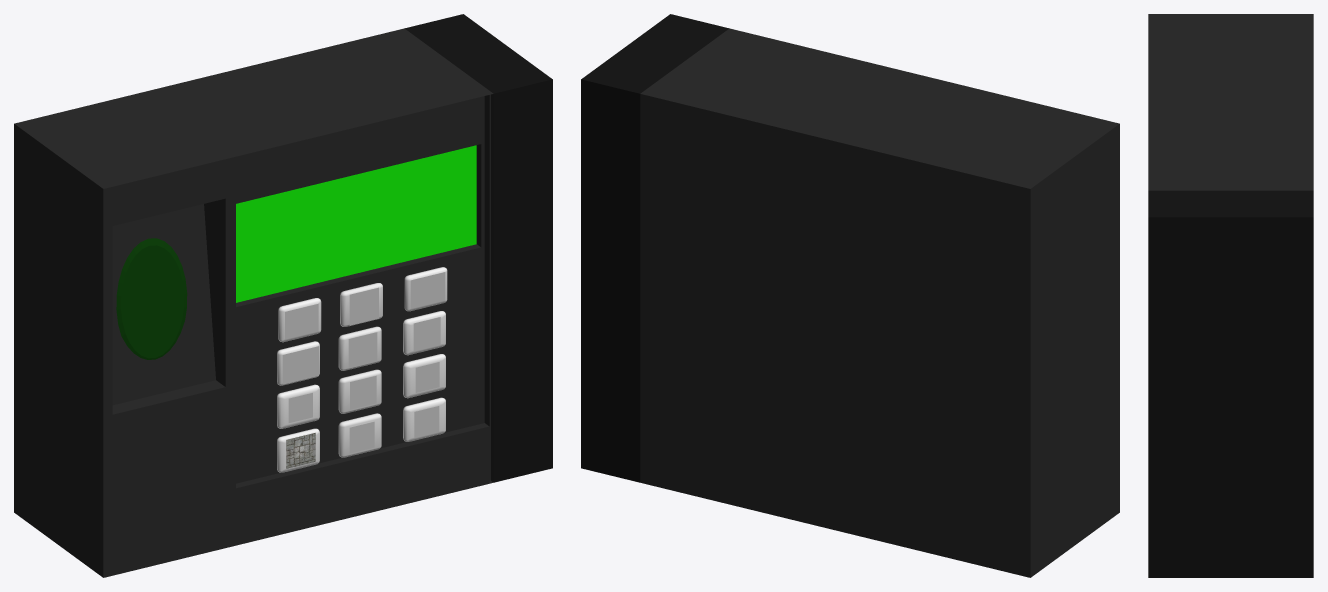
3 renders of one model, left to right at view 1: azimuth 30°, elevation 25°; view 2: azimuth 150°, elevation 25°; view 3: azimuth 270°, elevation 25°, orthographic. The views are drawn at different scales.
Visible parts, largest first — view 1: Boîte001, Ellipse004, Plan009, Plan001, BoîteChanfrein005, Objet001, BoîteChanfrein011, BoîteChanfrein010, Plan006, Plan018, Plan017, BoîteChanfrein004 (+10 smaller); view 2: Boîte001; view 3: Boîte001.
Part boxes in pixels (bbox=[...]): Boîte001: bbox=[14, 14, 552, 577]; Ellipse004: bbox=[116, 238, 187, 359]; Plan009: bbox=[282, 346, 318, 384]; Plan001: bbox=[410, 272, 445, 308]; BoîteChanfrein005: bbox=[403, 354, 445, 398]; Objet001: bbox=[277, 384, 319, 428]; BoîteChanfrein011: bbox=[338, 413, 381, 457]; BoîteChanfrein010: bbox=[403, 397, 445, 441]; Plan006: bbox=[285, 303, 318, 339]; Plan018: bbox=[349, 287, 378, 325]; Plan017: bbox=[348, 332, 377, 368]; BoîteChanfrein004: bbox=[338, 369, 381, 413]; Boîte001: bbox=[581, 14, 1119, 577]; Boîte001: bbox=[1148, 14, 1313, 577].
Bounding box in the file's own units: 111 × 91.55 × 38.11.
